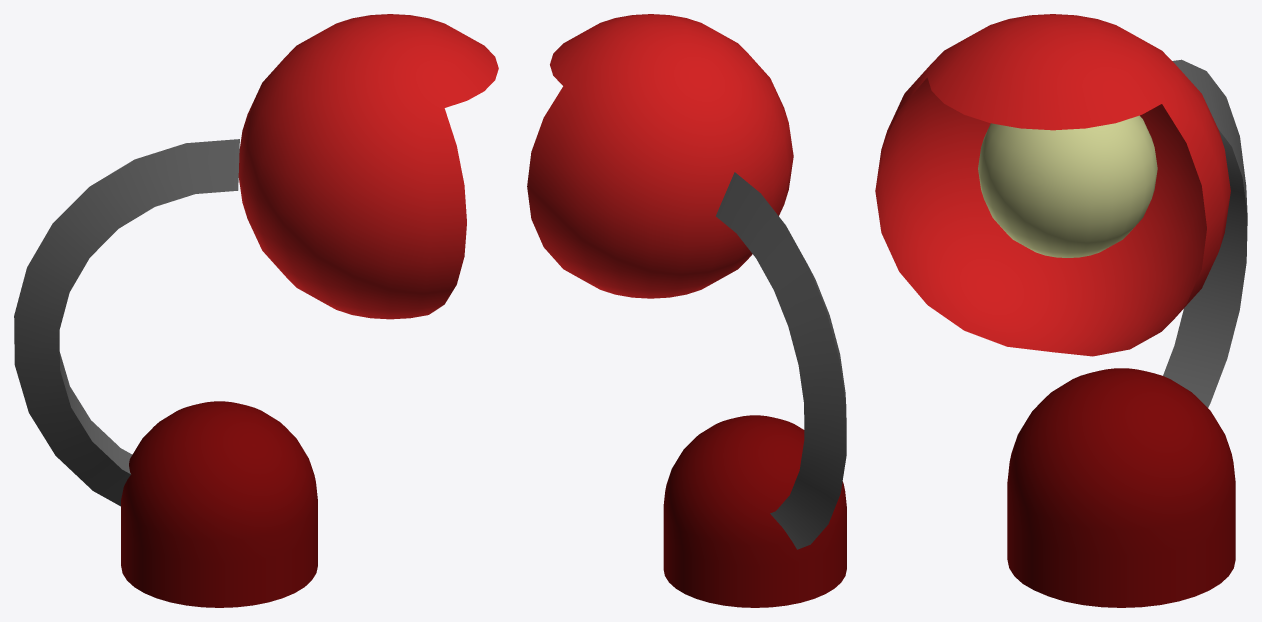
File: Lamp.fbx
3 views of the same model, side by side, from view 1: azimuth 30°, elevation 25°; view 2: azimuth 150°, elevation 25°; view 3: azimuth 270°, elevation 25° (orthographic). The views are drawn at different scales.
Visible parts, largest first — view 1: Sphere, Capsule, Torus; view 2: Sphere, Capsule, Torus; view 3: Sphere, Capsule, Sphere_1, Torus.
Part boxes in pixels (box(x1,y1,x2,y2)): Sphere: box(238, 14, 498, 319); Capsule: box(121, 401, 317, 607); Torus: box(14, 139, 239, 506); Sphere: box(527, 14, 793, 298); Capsule: box(663, 415, 846, 607); Torus: box(716, 172, 846, 549); Sphere: box(875, 14, 1230, 356); Capsule: box(1007, 368, 1235, 607); Sphere_1: box(978, 115, 1157, 257); Torus: box(1163, 59, 1247, 407).
Size of the model in its own units: 577 by 749 by 414.
